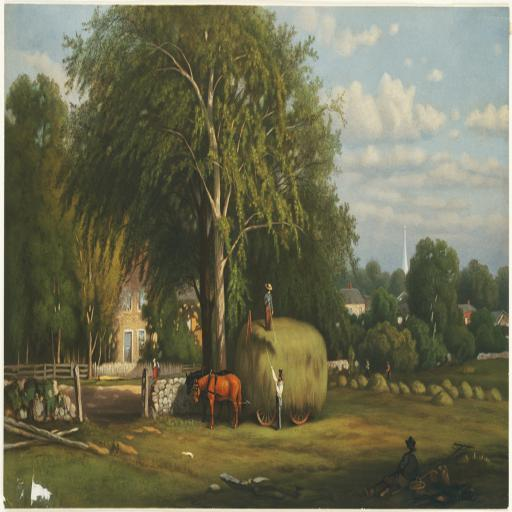horse: (192, 372, 243, 428), (184, 367, 230, 425)
